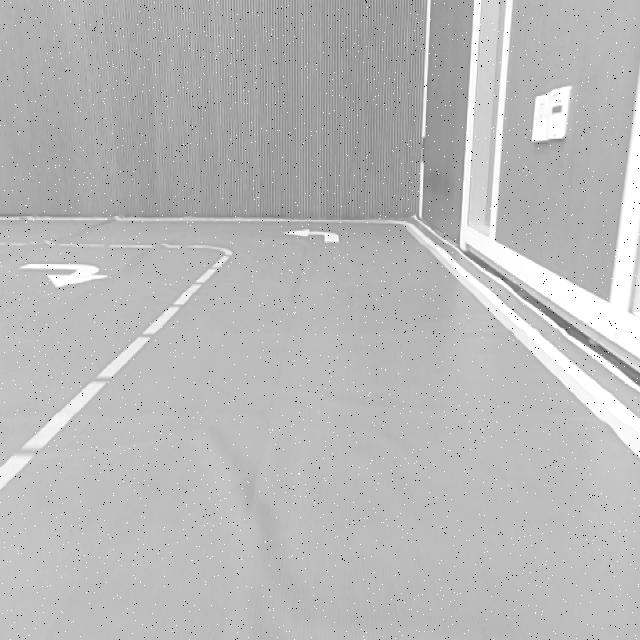left_lane: (0, 250, 231, 491)
right_lane: (403, 221, 640, 457)
